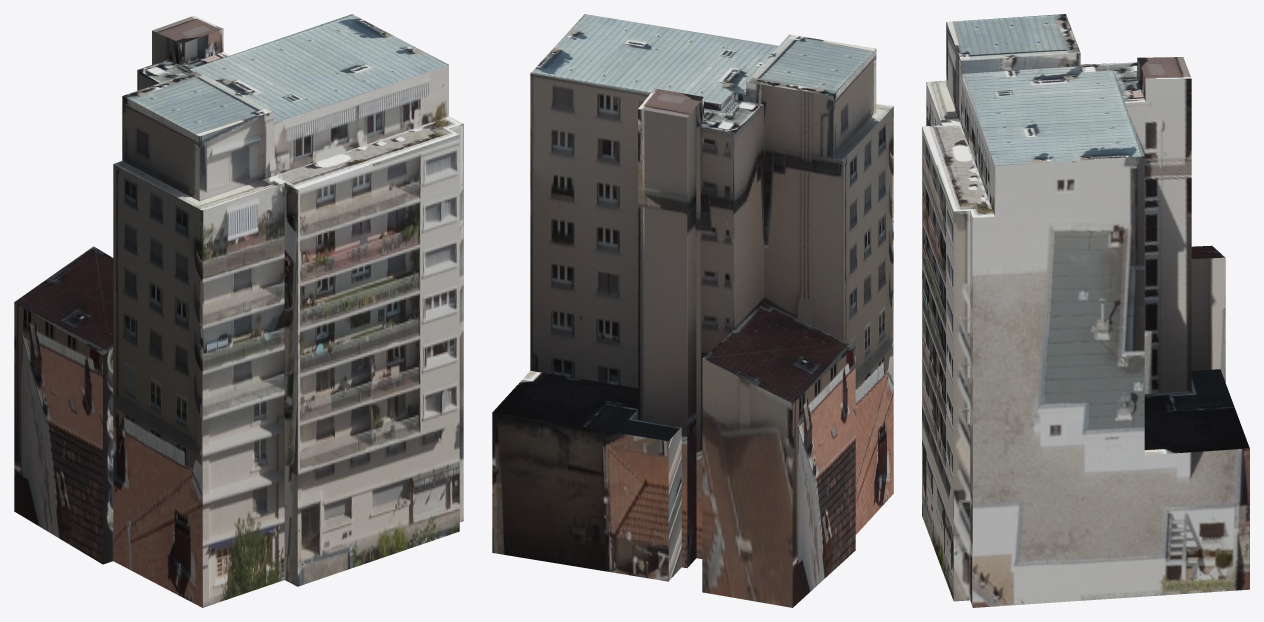
The picture shows the model from 3 angles, left to right: view 1: azimuth 30°, elevation 25°; view 2: azimuth 150°, elevation 25°; view 3: azimuth 270°, elevation 25°; orthographic projection. The views are drawn at different scales.
Parts seen in each view (by area): view 1: Z_UP; view 2: Z_UP; view 3: Z_UP.
Boxes of the visible parts, <box> form: Z_UP: <box>14,14,463,607</box>; Z_UP: <box>492,14,893,607</box>; Z_UP: <box>922,14,1249,607</box>.
Size of the model in its own units: 22.63 by 30.75 by 20.02.
2 materials, 1 textured.
